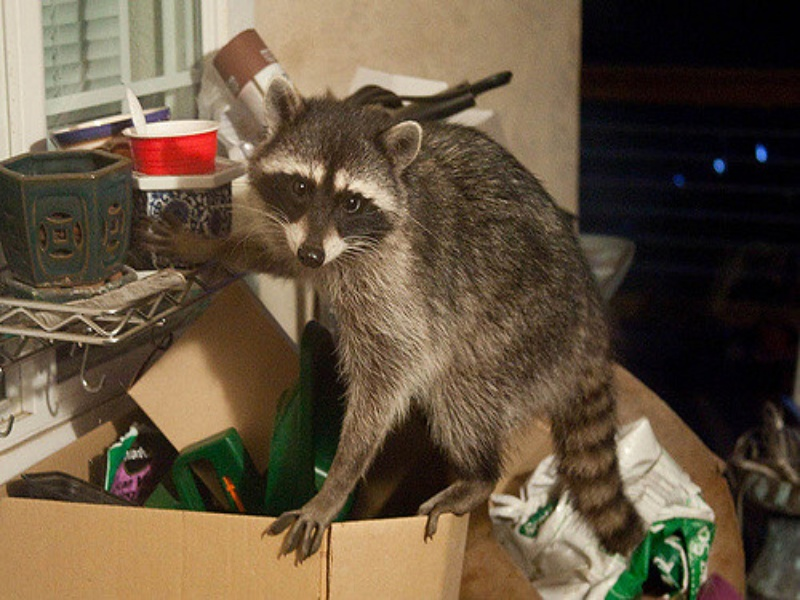raccoon: (136, 95, 649, 560)
